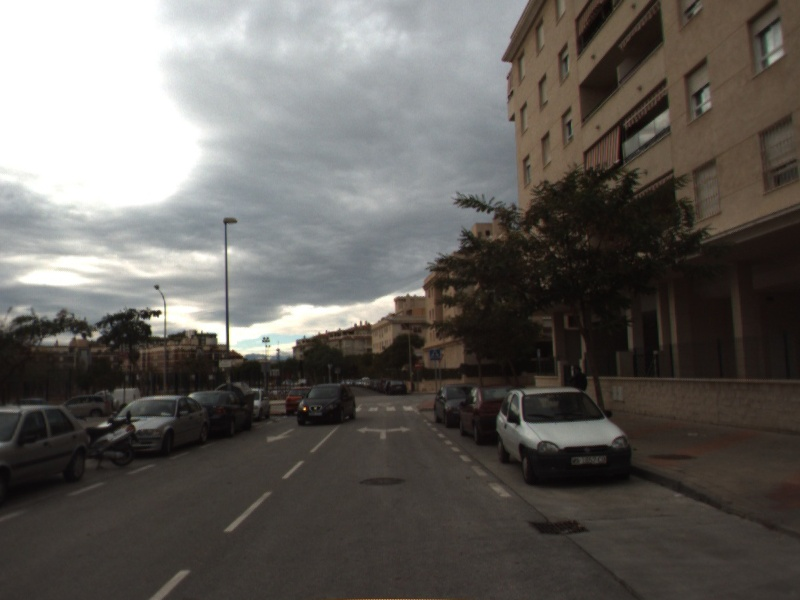LEFT_RIGHT: (355, 424, 413, 441)
